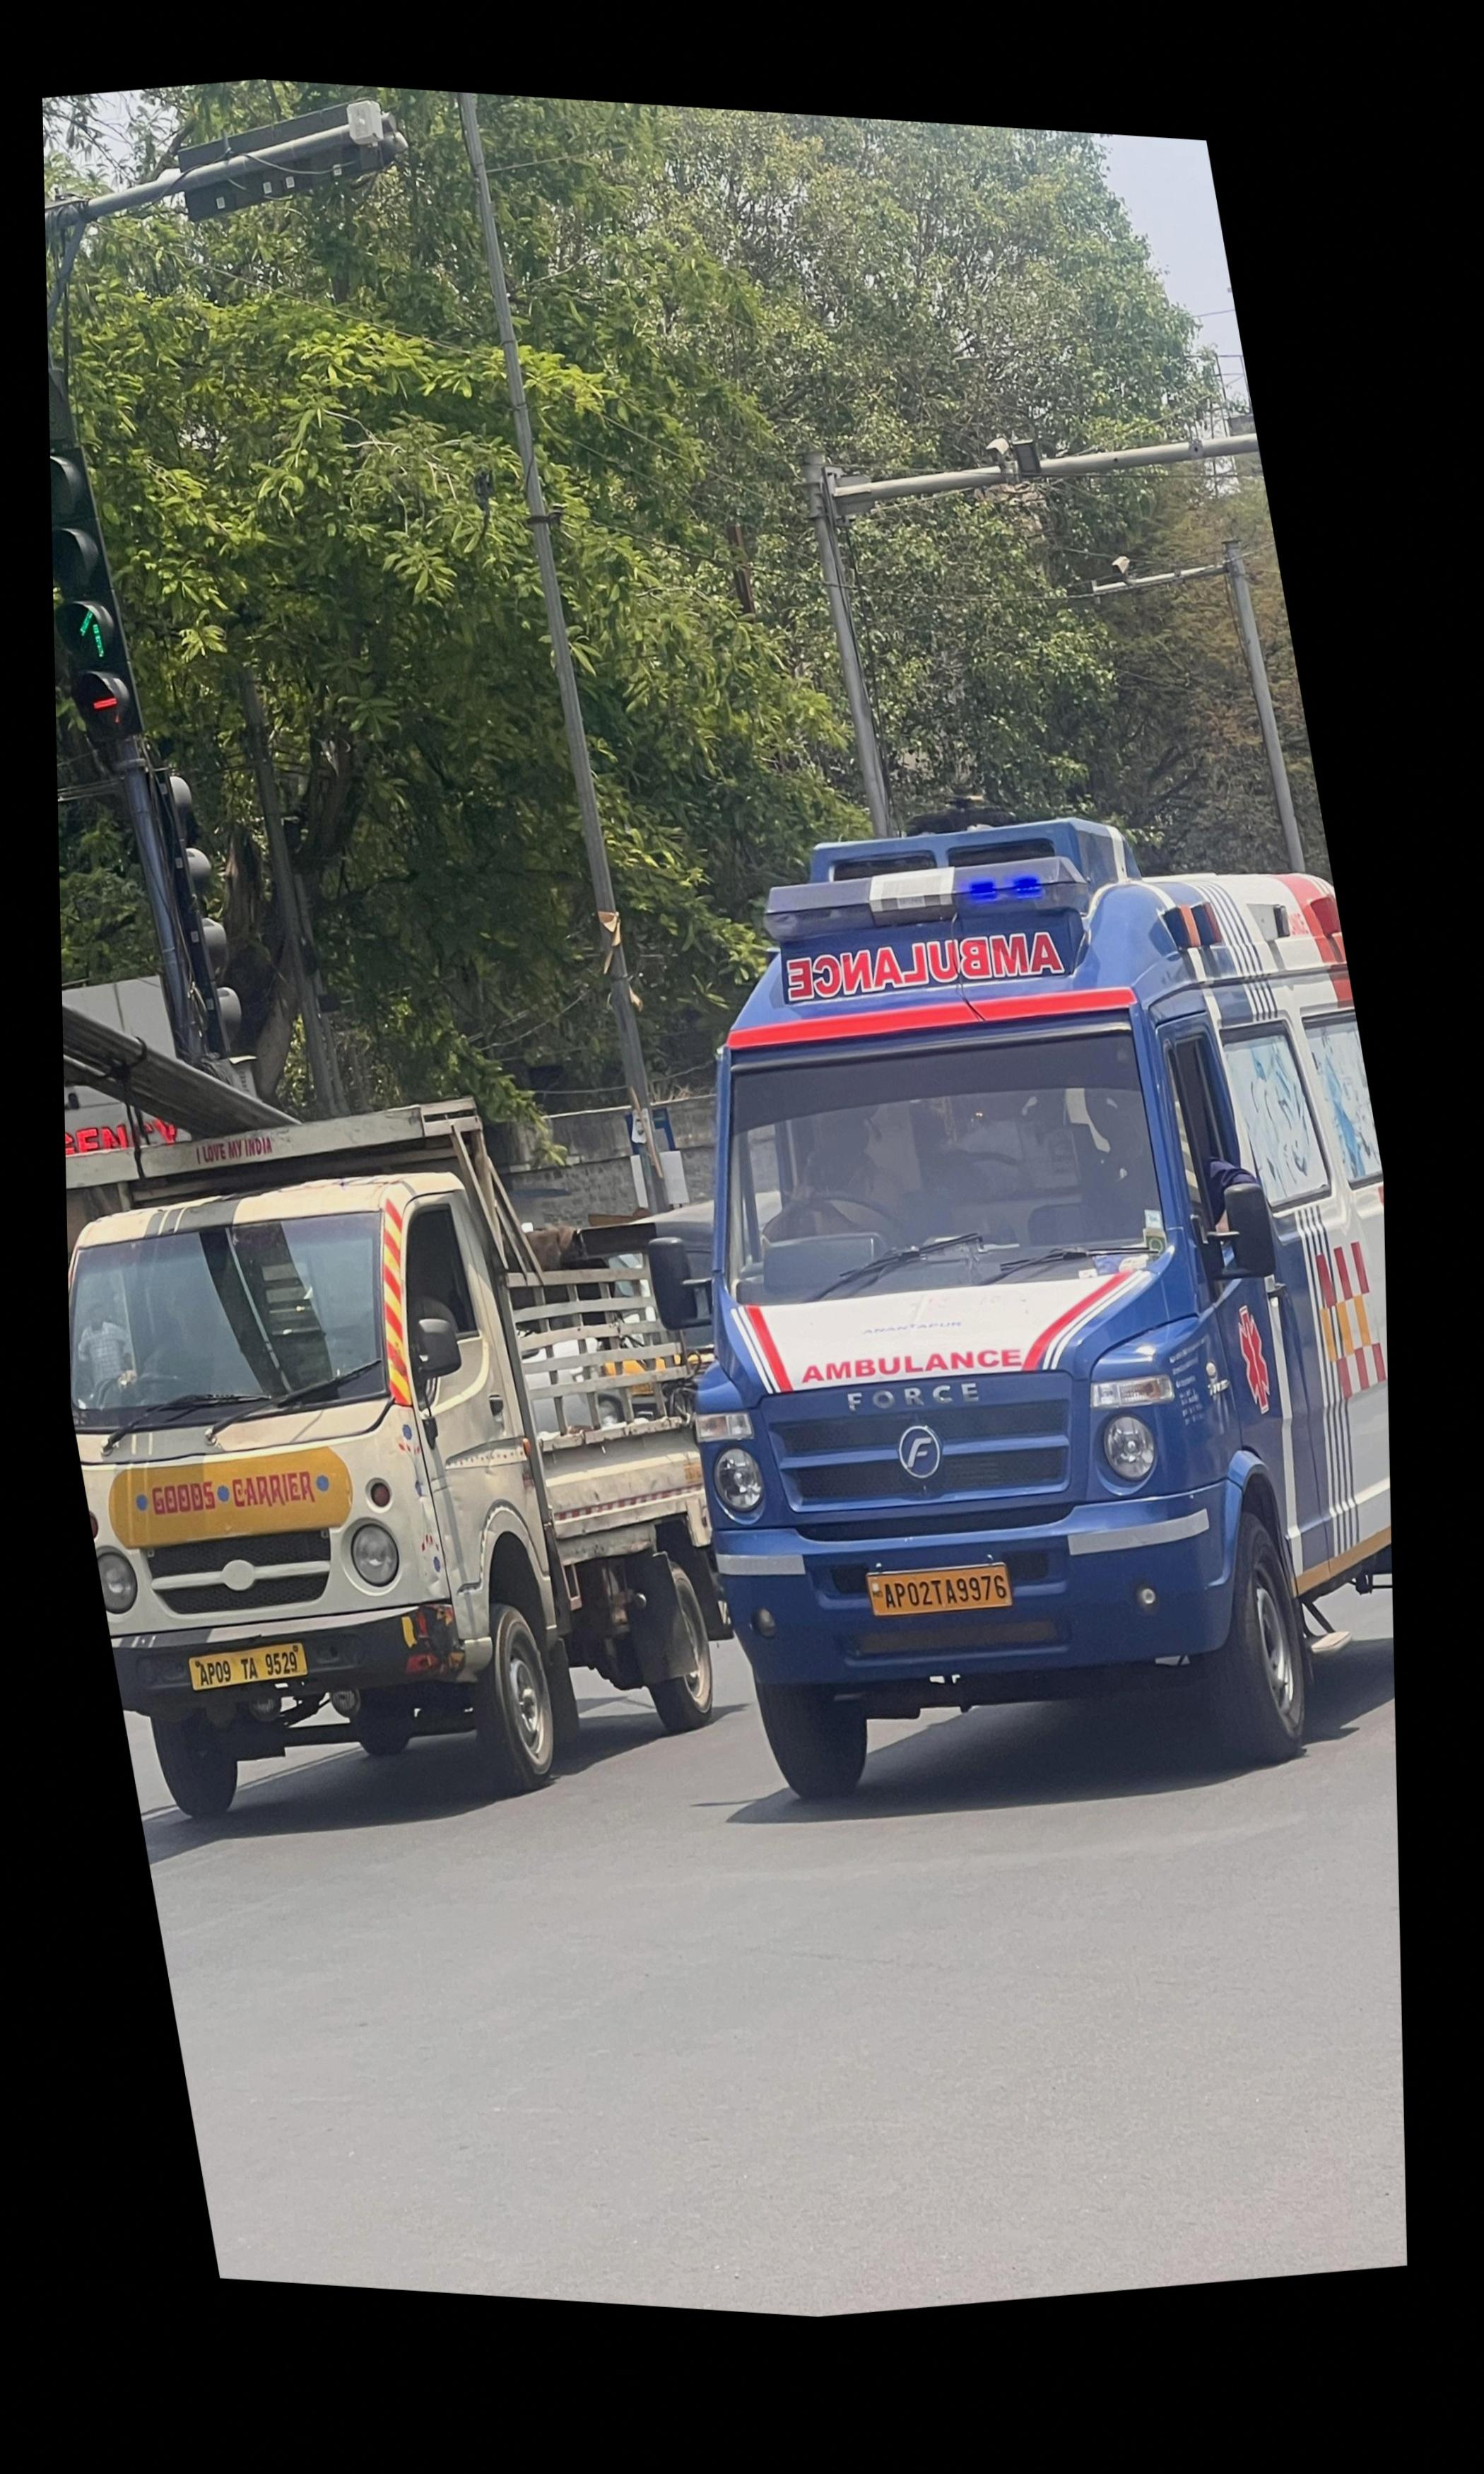ambulance: (698, 813, 1394, 1817)
